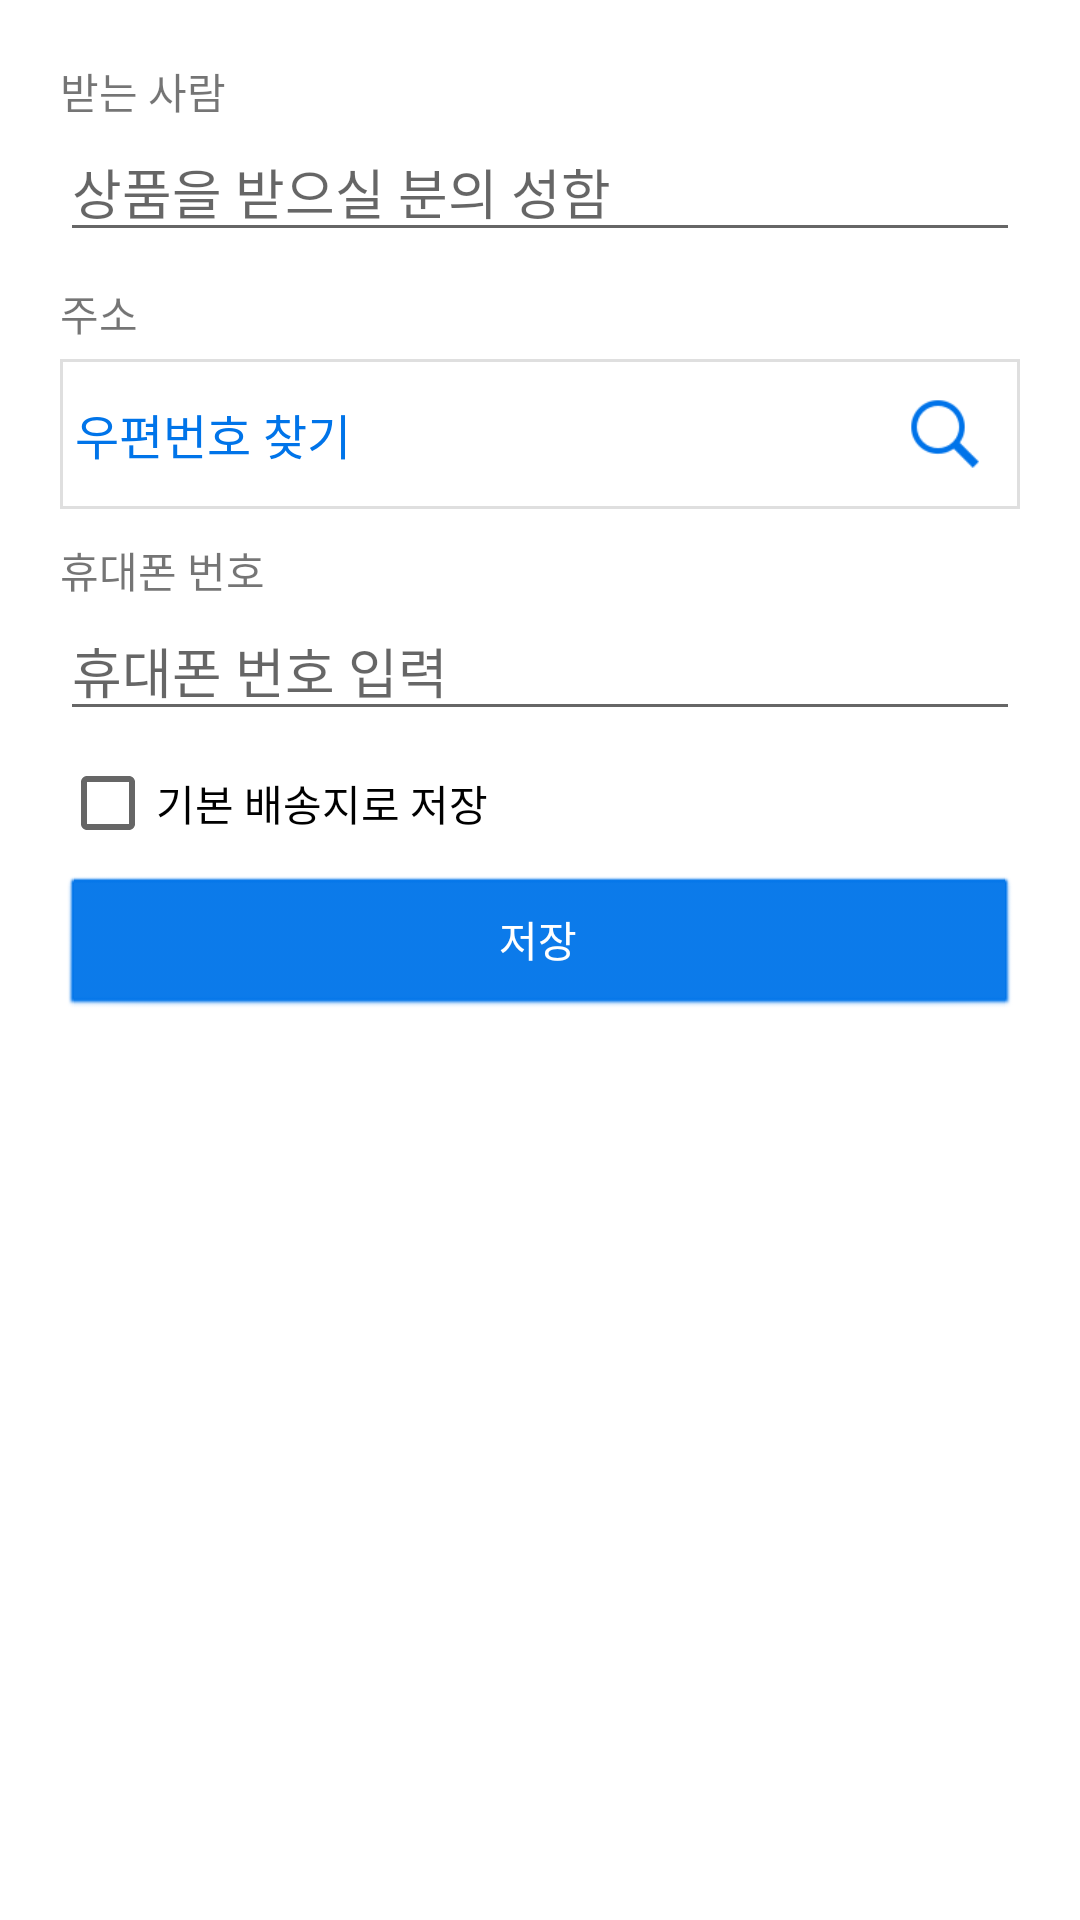

Icons on this 1080*1920 Android screen, each with its box as [left=x1, top=y1, right=x2, bottom=y2]:
search: [left=911, top=400, right=979, bottom=468]
